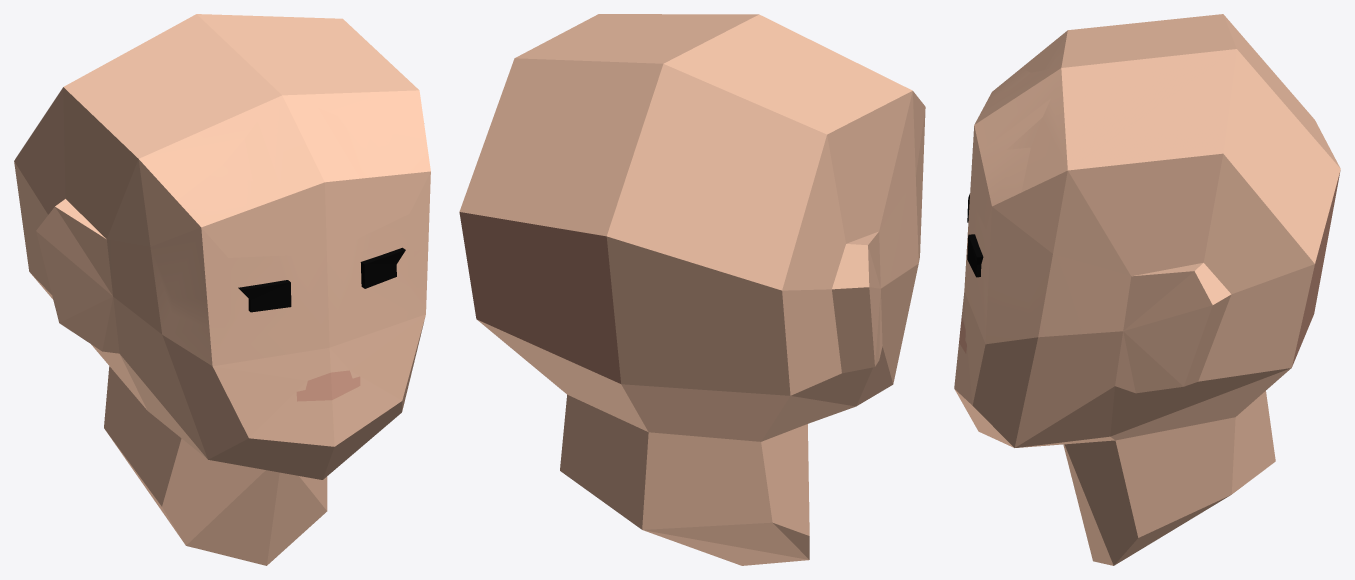
The model's file is Chr_Head_Female_12_Static.fbx.
The picture shows the model from 3 angles, left to right: view 1: azimuth 30°, elevation 25°; view 2: azimuth 150°, elevation 25°; view 3: azimuth 270°, elevation 25°; orthographic projection. The views are drawn at different scales.
Visible parts, largest first — view 1: Chr_Head_Female_12_Static; view 2: Chr_Head_Female_12_Static; view 3: Chr_Head_Female_12_Static.
Part boxes in pixels (box(x1,y1,x2,y2)): Chr_Head_Female_12_Static: box(14, 14, 430, 565); Chr_Head_Female_12_Static: box(459, 14, 925, 565); Chr_Head_Female_12_Static: box(954, 14, 1340, 565).
Size of the model in its own units: 0.2661 by 0.3693 by 0.2526.
